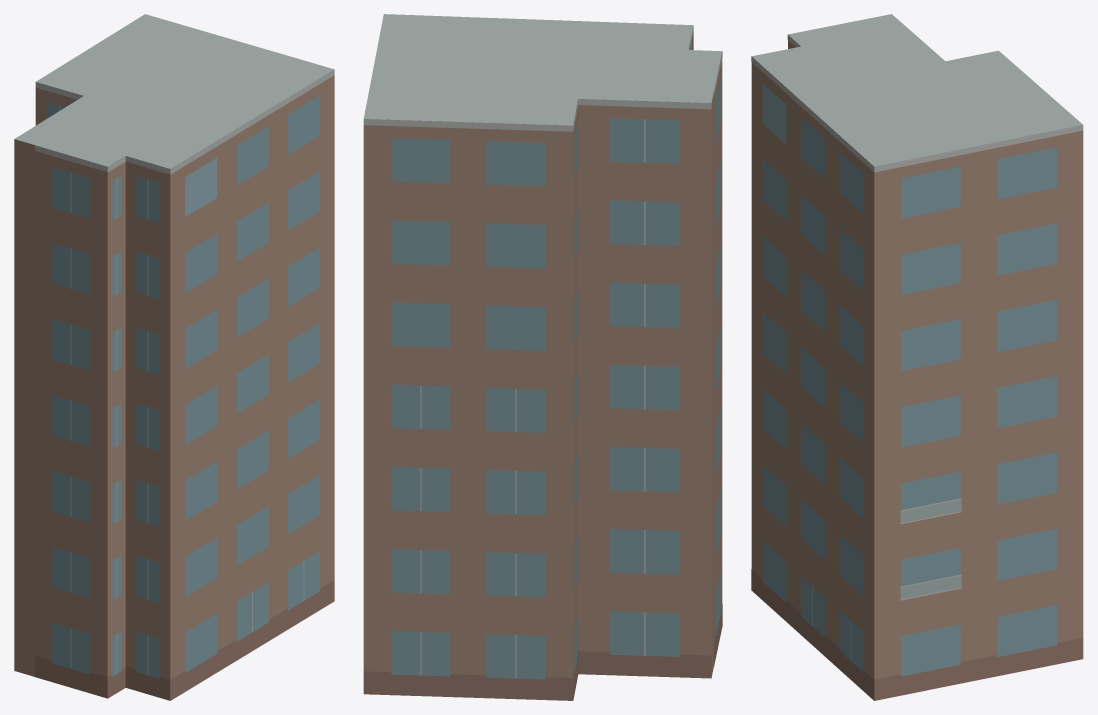
The model's file is survey-upis-32913678.glb.
3 views of the same model, side by side, from view 1: azimuth 30°, elevation 25°; view 2: azimuth 150°, elevation 25°; view 3: azimuth 270°, elevation 25° (orthographic). The views are drawn at different scales.
Visible parts, largest first — view 1: survey-upis-32913678.tmp; view 2: survey-upis-32913678.tmp; view 3: survey-upis-32913678.tmp.
Boxes of the visible parts, left/top/right/bottom form: survey-upis-32913678.tmp: left=14, top=14, right=334, bottom=700; survey-upis-32913678.tmp: left=363, top=14, right=722, bottom=700; survey-upis-32913678.tmp: left=751, top=14, right=1083, bottom=700.
Size of the model in its own units: 13.93 by 22.7 by 12.79.
